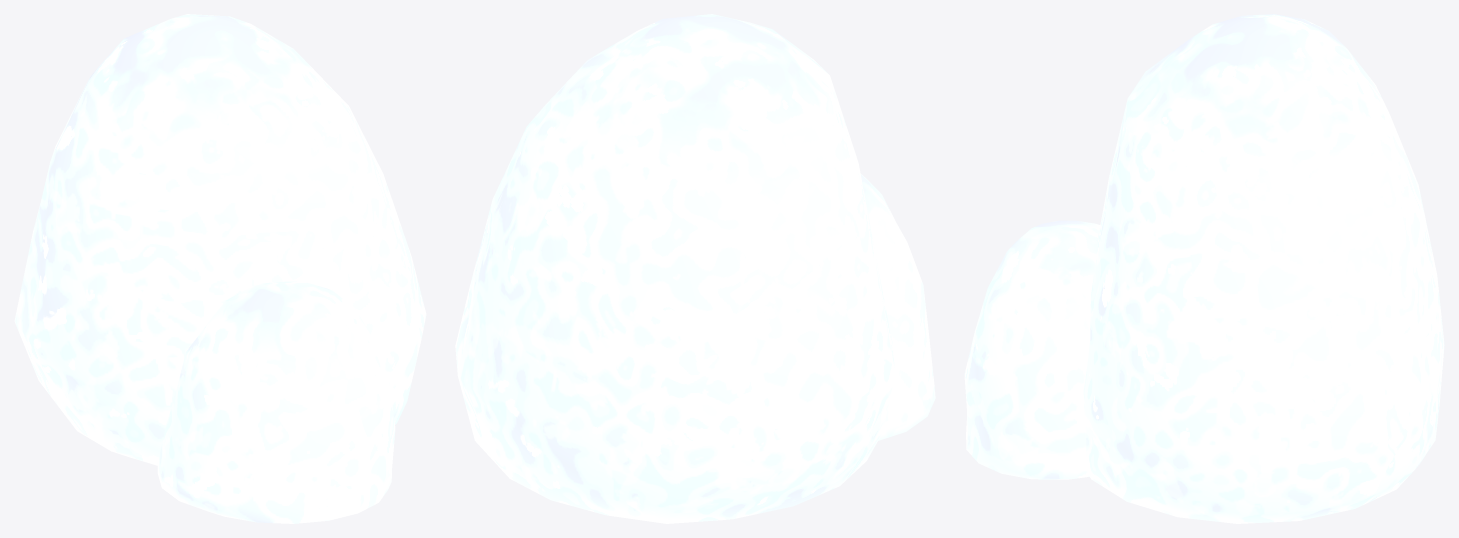
Rendered from 089_round_stones.glb.
3 renders of one model, left to right at view 1: azimuth 30°, elevation 25°; view 2: azimuth 150°, elevation 25°; view 3: azimuth 270°, elevation 25°, orthographic. The views are drawn at different scales.
Visible parts, largest first — view 1: stone_1, stone_2; view 2: stone_1, stone_2; view 3: stone_1, stone_2.
Part boxes in pixels (x1,y1,x2,y2): stone_1: [14, 14, 426, 465]; stone_2: [157, 281, 395, 523]; stone_1: [455, 14, 894, 523]; stone_2: [860, 174, 935, 440]; stone_1: [1083, 14, 1444, 523]; stone_2: [964, 220, 1100, 479].
Size of the model in its own units: 0.6678 by 0.6967 by 0.7295.
1 material, 1 textured.
